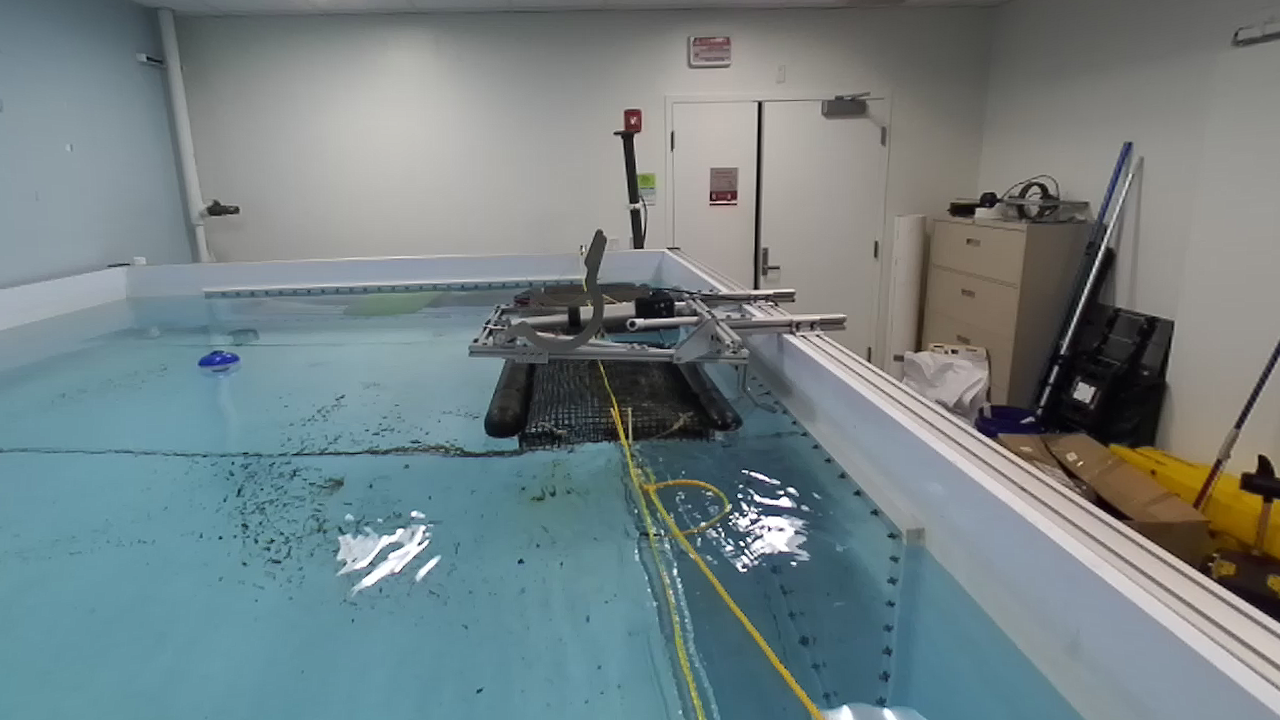bag: (480, 364, 747, 449)
